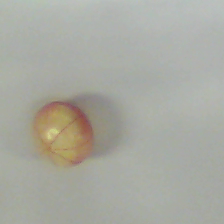onion: (18, 77, 113, 167)
